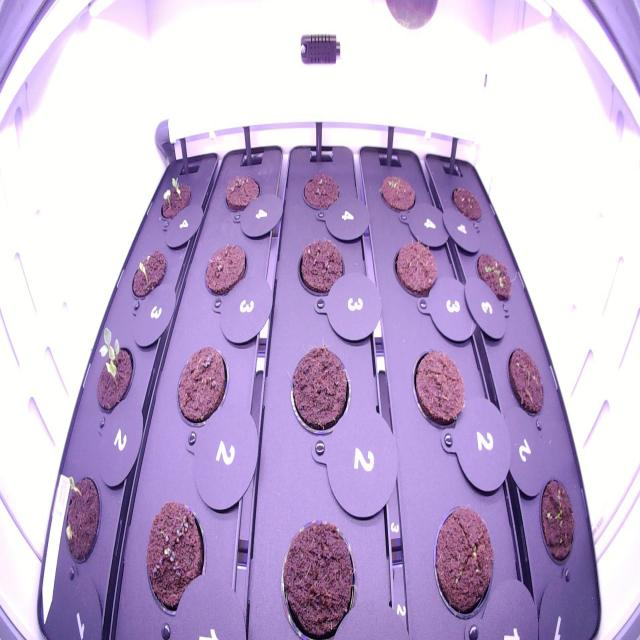germination: (134, 494, 216, 628), (56, 464, 106, 572), (91, 318, 137, 426), (469, 243, 516, 313), (127, 242, 171, 306), (152, 168, 196, 230)
pod: (272, 516, 361, 640), (426, 494, 500, 629), (282, 338, 355, 438), (168, 340, 232, 437), (404, 343, 469, 436), (535, 471, 580, 572), (293, 232, 349, 307), (500, 337, 548, 424), (198, 236, 252, 304), (391, 232, 440, 305), (295, 167, 343, 220), (373, 168, 418, 222), (220, 167, 264, 222), (445, 178, 486, 230)
